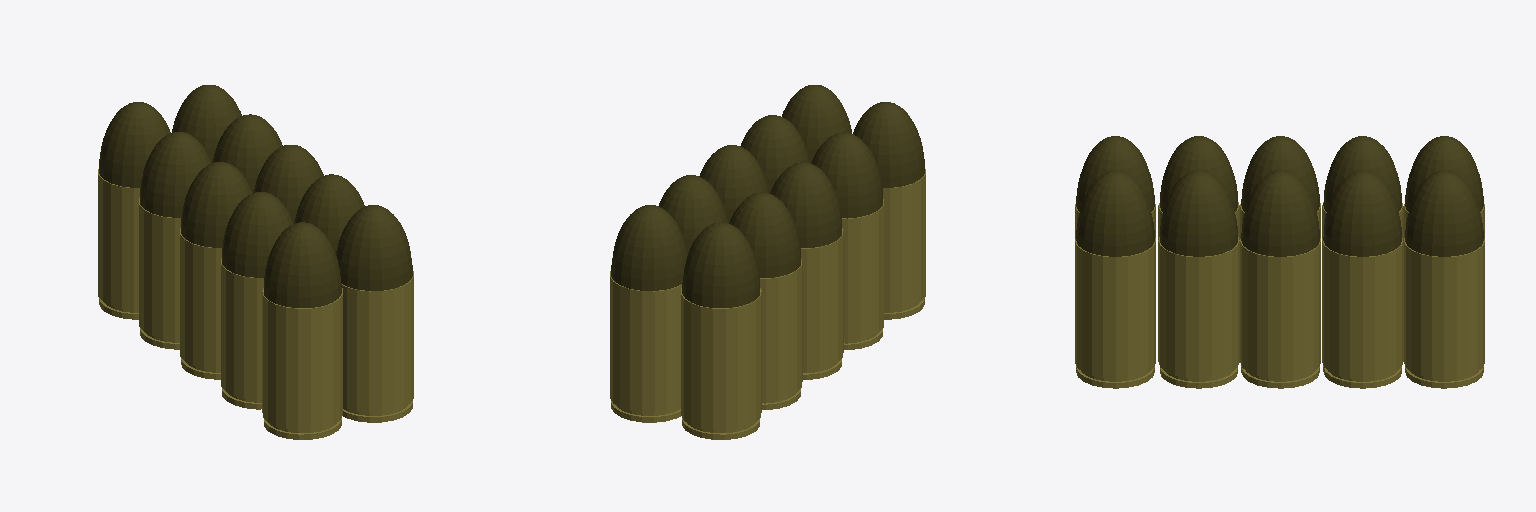
File: PistolBullet_TenRds.obj
The picture shows the model from 3 angles: view 1: azimuth 30°, elevation 25°; view 2: azimuth 150°, elevation 25°; view 3: azimuth 270°, elevation 25°; orthographic projection.
Parts seen in each view (by area): view 1: Pistol_Bullet_9mm10; view 2: Pistol_Bullet_9mm10; view 3: Pistol_Bullet_9mm10.
Part boxes in pixels (bbox=[...]): Pistol_Bullet_9mm10: bbox=[98, 85, 413, 439]; Pistol_Bullet_9mm10: bbox=[610, 85, 925, 439]; Pistol_Bullet_9mm10: bbox=[1075, 136, 1484, 388].
Bounding box in the file's own units: 4.44 × 6.05 × 11.16.